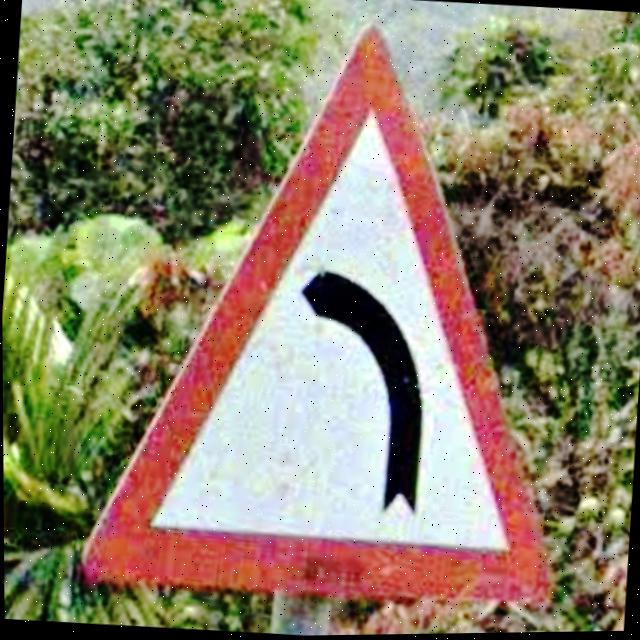leftbend: (79, 27, 552, 612)
